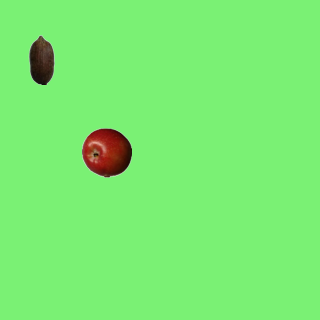Apple Braeburn: (81, 127, 131, 177)
Nut Pecan: (16, 34, 66, 84)
